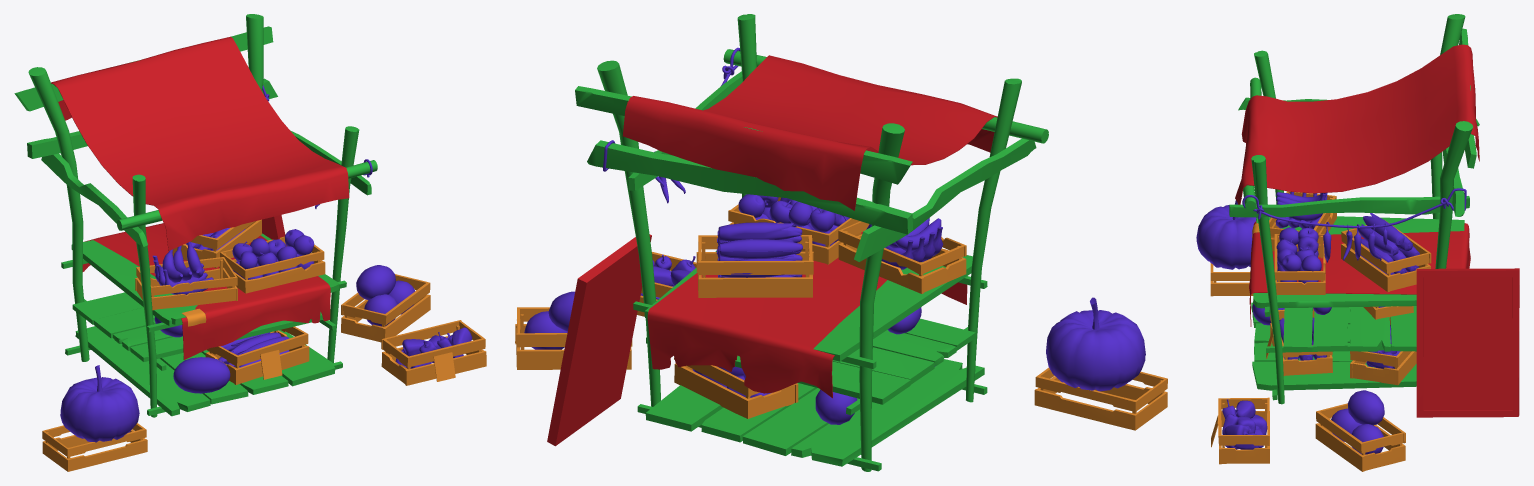
Rendered from Palatka.FBX.
3 renders of one model, left to right at view 1: azimuth 30°, elevation 25°; view 2: azimuth 150°, elevation 25°; view 3: azimuth 270°, elevation 25°, orthographic. The views are drawn at different scales.
Parts seen in each view (by area): view 1: Tend_Low, Podstilka_Low, Tukwa_Low, Stoyka4_Low, Doskkaa_5_Low, Stol_Low, Box_2_Low, Stoyka1_Low, Stoyka2_Low, Yaschik_2_Low, Dunya_Low001, Perekladina_4_Low (+28 smaller); view 2: Tend_Low, Podstilka_Low, Doska_Low, Tukwa_Low, Perekladina_2_Low, Doskkaa_5_Low, Stol_Low, Stoyka4_Low, Stoyka1_Low, Stoyka3_Low, Perekladina_4_Low, Yaschik_2_Low (+26 smaller); view 3: Tend_Low, Doska_Low, Podstilka_Low, Stol_Low, Perekladina_3_Low, Tukwa_Low, Doskkaa_8_Low, Stoyka2_Low, Stoyka3_Low, Box_1_Low001, Doskkaa_2_Low, Box_2_Low001 (+29 smaller).
Part boxes in pixels (<box>): Tend_Low: <box>51,36,349,250</box>; Podstilka_Low: <box>82,223,330,359</box>; Tukwa_Low: <box>60,365,139,442</box>; Stoyka4_Low: <box>28,67,89,361</box>; Doskkaa_5_Low: <box>75,326,210,416</box>; Stol_Low: <box>71,233,339,325</box>; Box_2_Low: <box>381,320,485,367</box>; Stoyka1_Low: <box>132,174,157,417</box>; Stoyka2_Low: <box>327,126,359,363</box>; Yaschik_2_Low: <box>42,429,147,471</box>; Dunya_Low001: <box>173,357,230,393</box>; Perekladina_4_Low: <box>41,153,147,246</box>; Tend_Low: <box>623,55,997,210</box>; Podstilka_Low: <box>647,232,967,398</box>; Doska_Low: <box>547,234,651,446</box>; Tukwa_Low: <box>1046,297,1145,391</box>; Perekladina_2_Low: <box>587,140,913,234</box>; Doskkaa_5_Low: <box>791,359,984,466</box>; Stol_Low: <box>644,251,972,361</box>; Stoyka4_Low: <box>859,123,904,471</box>; Stoyka1_Low: <box>966,78,1021,402</box>; Stoyka3_Low: <box>597,60,660,406</box>; Perekladina_4_Low: <box>854,138,1036,261</box>; Yaschik_2_Low: <box>1034,376,1167,430</box>; Tend_Low: <box>1235,44,1479,204</box>; Doska_Low: <box>1416,268,1519,417</box>; Podstilka_Low: <box>1249,221,1470,326</box>; Stol_Low: <box>1253,216,1464,308</box>; Perekladina_3_Low: <box>1229,196,1469,217</box>; Tukwa_Low: <box>1196,198,1256,269</box>; Doskkaa_8_Low: <box>1252,361,1416,390</box>; Stoyka2_Low: <box>1251,155,1284,404</box>; Stoyka3_Low: <box>1435,121,1472,268</box>; Box_1_Low001: <box>1315,423,1405,471</box>; Doskkaa_2_Low: <box>1350,307,1390,351</box>; Box_2_Low001: <box>1316,403,1405,453</box>.
Size of the model in its own units: 242 by 153 by 155.
